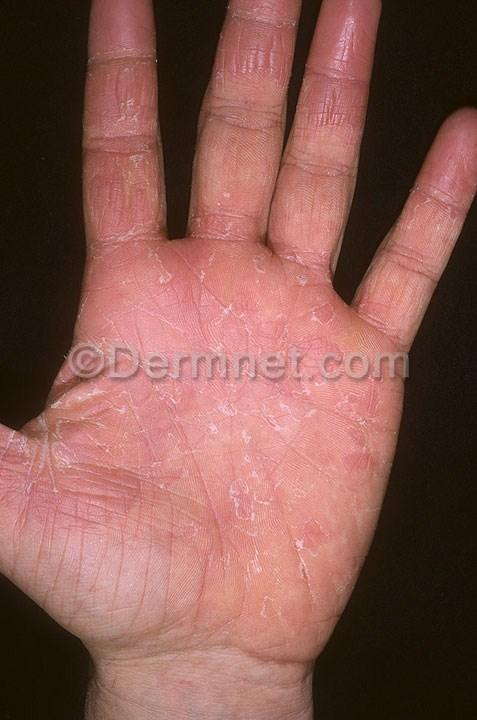Eczema: (218, 389, 384, 589), (55, 393, 209, 556), (202, 250, 375, 349), (77, 253, 205, 346), (308, 4, 365, 168), (81, 154, 163, 255), (83, 19, 152, 137), (186, 174, 290, 249), (221, 0, 294, 94), (0, 434, 44, 553), (198, 102, 270, 168), (278, 186, 347, 251), (378, 196, 447, 258), (425, 115, 477, 189), (373, 272, 415, 345)
